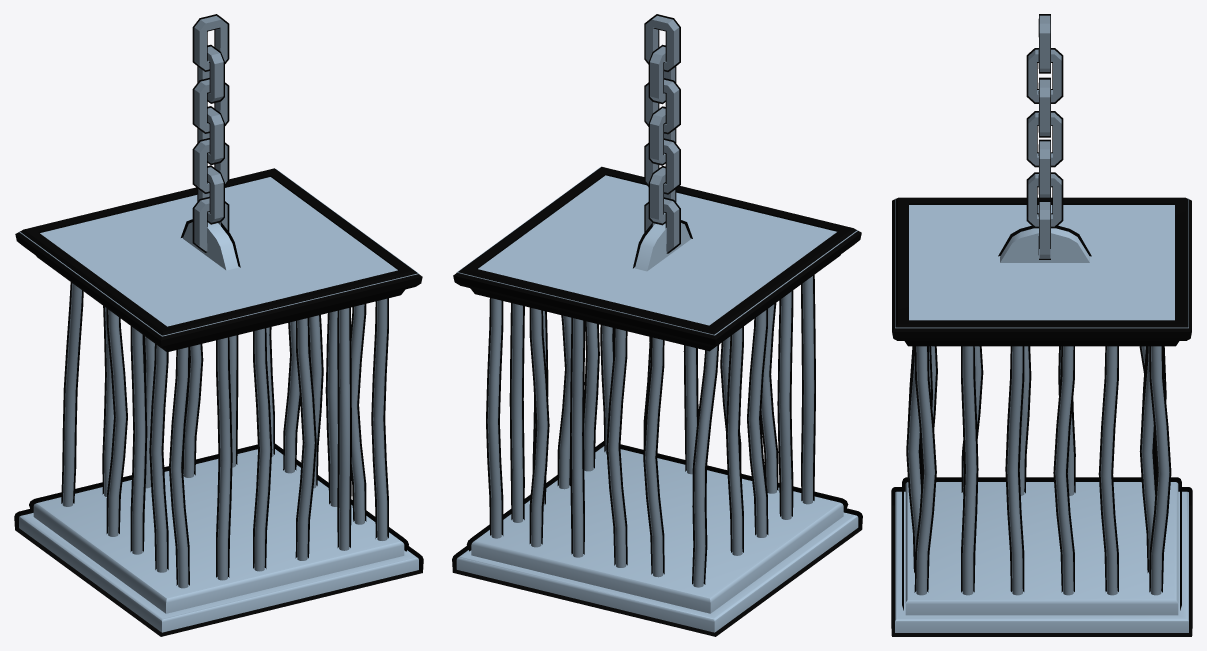
The model's file is Cage box.fbx.
3 views of the same model, side by side, from view 1: azimuth 30°, elevation 25°; view 2: azimuth 150°, elevation 25°; view 3: azimuth 270°, elevation 25° (orthographic). The views are drawn at different scales.
Visible parts, largest first — view 1: Cylinder.004, Cube.016, Cube.034, Cube.028, Cube.032, Cube.030, Cube.033, Cube.031, Cube.020, Cube.029; view 2: Cylinder.004, Cube.016, Cube.034, Cube.028, Cube.032, Cube.030, Cube.033, Cube.031, Cube.020, Cube.029; view 3: Cube.016, Cylinder.004, Cube.028, Cube.020, Cube.031, Cube.033, Cube.030, Cube.032, Cube.034, Cube.029.
Part boxes in pixels (bbox=[...]): Cylinder.004: bbox=[14, 168, 423, 636]; Cube.016: bbox=[19, 169, 418, 632]; Cube.034: bbox=[192, 14, 229, 71]; Cube.028: bbox=[181, 219, 240, 270]; Cube.032: bbox=[192, 78, 229, 133]; Cube.030: bbox=[192, 138, 229, 193]; Cube.033: bbox=[197, 44, 224, 103]; Cube.031: bbox=[197, 106, 224, 165]; Cube.020: bbox=[197, 165, 224, 224]; Cube.029: bbox=[192, 196, 229, 252]; Cylinder.004: bbox=[452, 166, 862, 636]; Cube.016: bbox=[456, 167, 858, 632]; Cube.034: bbox=[644, 14, 680, 71]; Cube.028: bbox=[633, 220, 692, 271]; Cube.032: bbox=[644, 78, 680, 134]; Cube.030: bbox=[644, 138, 680, 194]; Cube.033: bbox=[648, 44, 676, 104]; Cube.031: bbox=[648, 106, 676, 165]; Cube.020: bbox=[648, 166, 676, 225]; Cube.029: bbox=[644, 197, 680, 253]; Cube.016: bbox=[895, 198, 1188, 632]; Cylinder.004: bbox=[891, 197, 1192, 636]; Cube.028: bbox=[998, 225, 1091, 262]; Cube.020: bbox=[1026, 172, 1063, 228]; Cube.031: bbox=[1026, 111, 1063, 167]; Cube.033: bbox=[1026, 48, 1063, 103]; Cube.030: bbox=[1038, 139, 1050, 199]; Cube.032: bbox=[1038, 77, 1050, 137]; Cube.034: bbox=[1038, 14, 1050, 73]; Cube.029: bbox=[1038, 200, 1050, 259].
Size of the model in its own units: 181 by 350 by 174.
